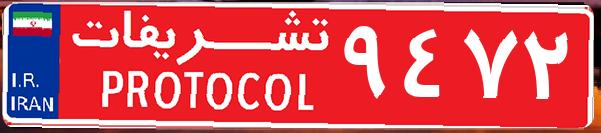2: (520, 20, 580, 115)
4: (400, 20, 460, 115)
7: (460, 20, 520, 115)
9: (340, 20, 400, 115)
تشریفات: (60, 8, 340, 125)
